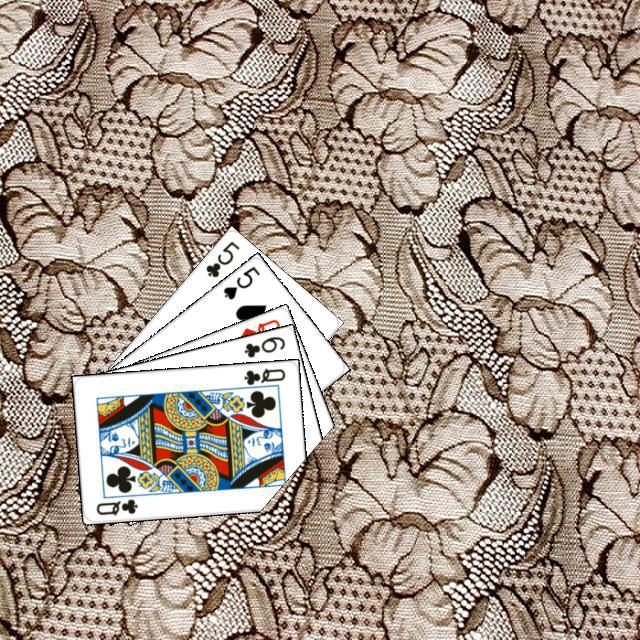5c: (201, 236, 241, 279)
5s: (218, 261, 262, 301)
6c: (239, 331, 287, 359)
Qc: (236, 363, 287, 390), (91, 494, 139, 517)
Qd: (235, 314, 282, 344)
